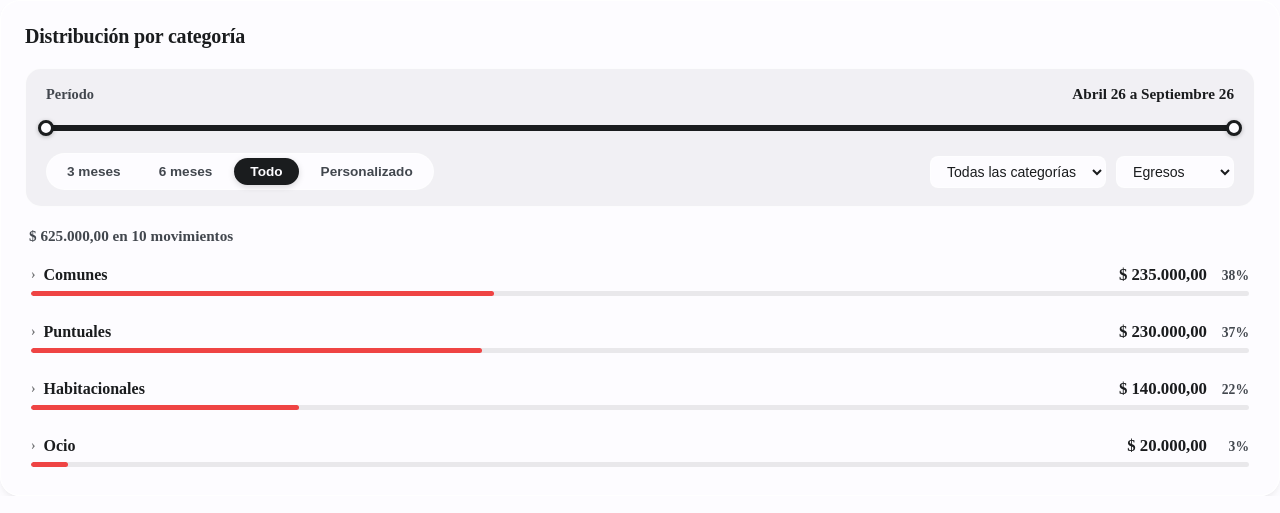
New Análisis Tab Features › 3. Category Distribution Card (matching reference image) › filters correctly when clicking 3 meses preset
Click the button "3 meses": (94, 172) [51,158,137,185]
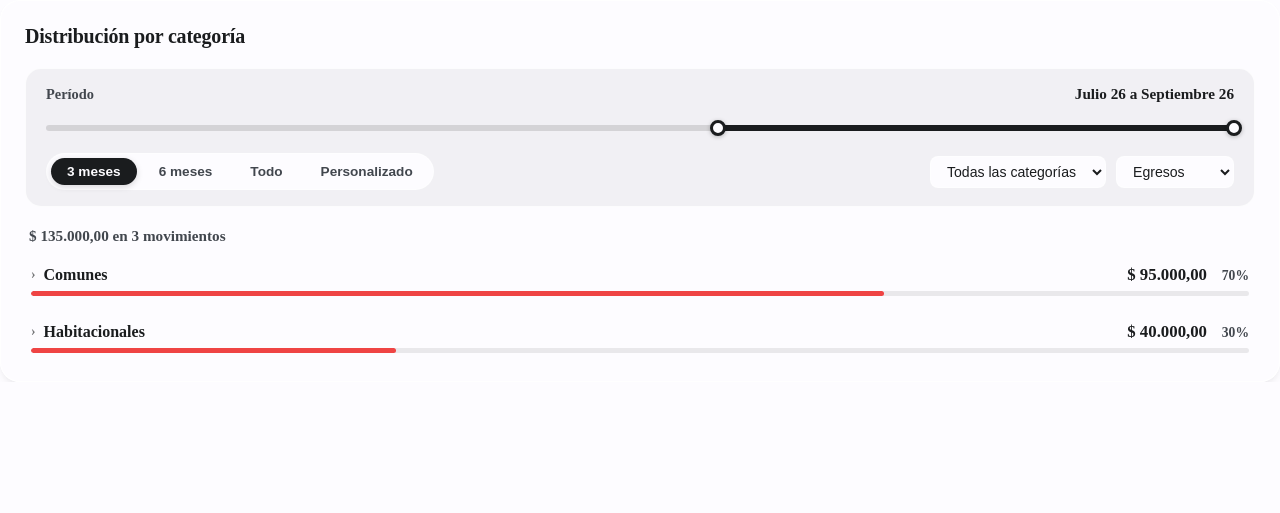
Expected: the element with test id "card-distribucion-categoria" shows "$ 135.000,00 en 3 movimientos"
